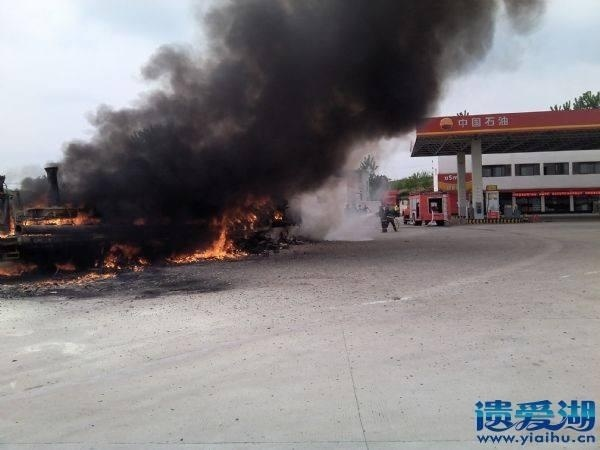fire: (166, 197, 283, 263), (0, 236, 149, 286), (0, 201, 94, 236)
